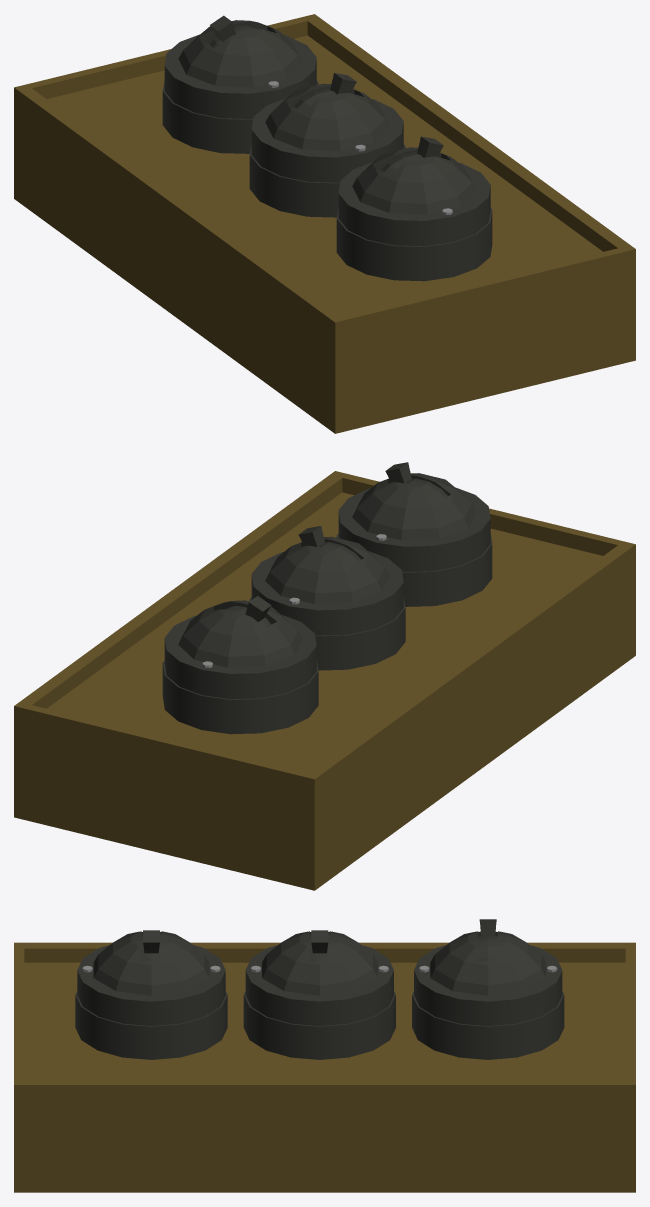
Rendered from Switchbox.fbx.
3 renders of one model, top to bottom at view 1: azimuth 30°, elevation 25°; view 2: azimuth 150°, elevation 25°; view 3: azimuth 270°, elevation 25°, orthographic. The views are drawn at different scales.
Visible parts, largest first — view 1: Switchbox, Base_of_Light_Toggle (×3), Top (×3), Switch (×3); view 2: Switchbox, Base_of_Light_Toggle (×3), Top (×3), Switch (×3); view 3: Switchbox, Base_of_Light_Toggle (×3), Top (×3), Switch (×3).
Boxes of the visible parts, left/top/right/bottom form: Switchbox: left=14, top=14, right=635, bottom=433; Base_of_Light_Toggle (×3): left=162, top=34, right=492, bottom=281; Top (×3): left=178, top=20, right=476, bottom=214; Switch (×3): left=210, top=15, right=443, bottom=175; Switchbox: left=14, top=471, right=635, bottom=890; Base_of_Light_Toggle (×3): left=162, top=487, right=492, bottom=734; Top (×3): left=178, top=473, right=476, bottom=667; Switch (×3): left=223, top=462, right=447, bottom=628; Switchbox: left=14, top=942, right=635, bottom=1192; Base_of_Light_Toggle (×3): left=75, top=945, right=564, bottom=1059; Top (×3): left=93, top=931, right=545, bottom=995; Switch (×3): left=141, top=919, right=497, bottom=961.
Size of the model in its own units: 1.17 by 0.7558 by 2.17.
